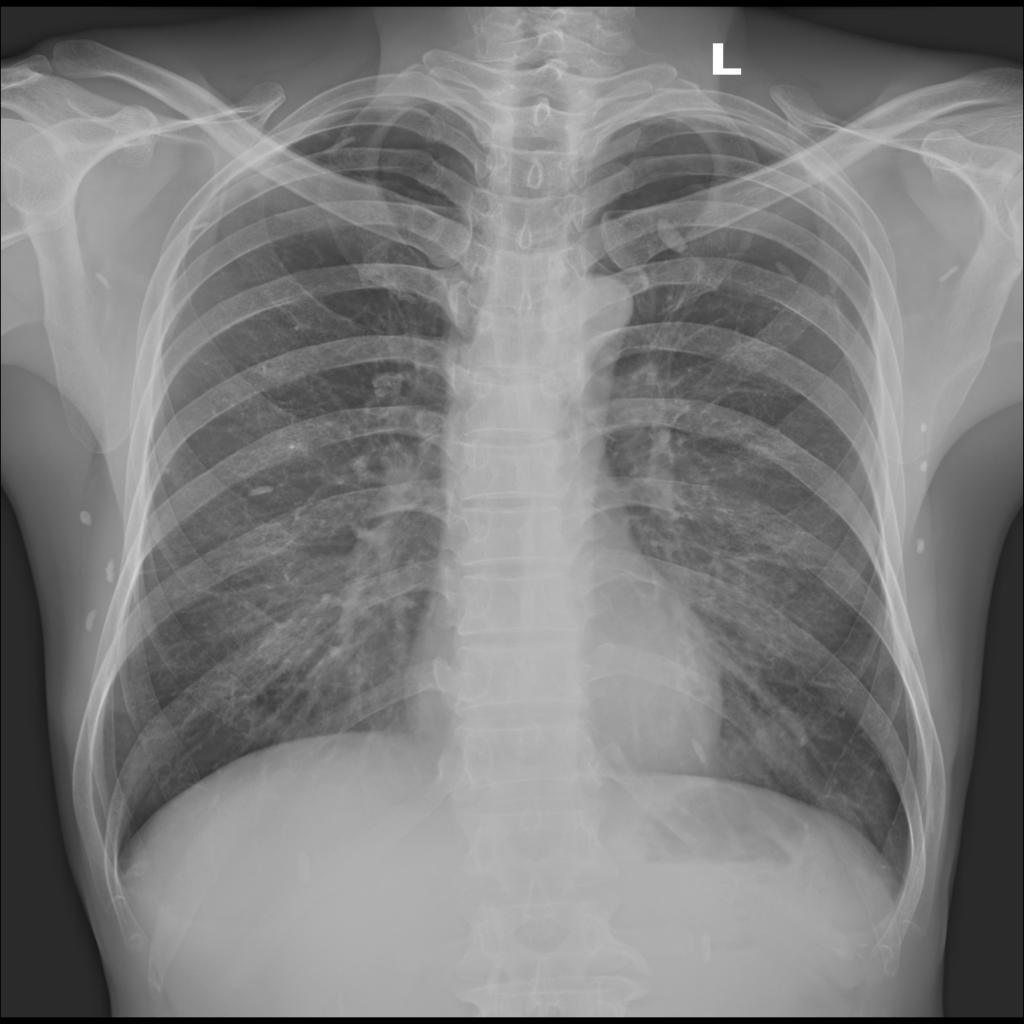Nodule: (656, 218, 692, 254)
